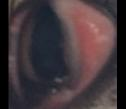eye_membrane: (43, 0, 115, 108)
